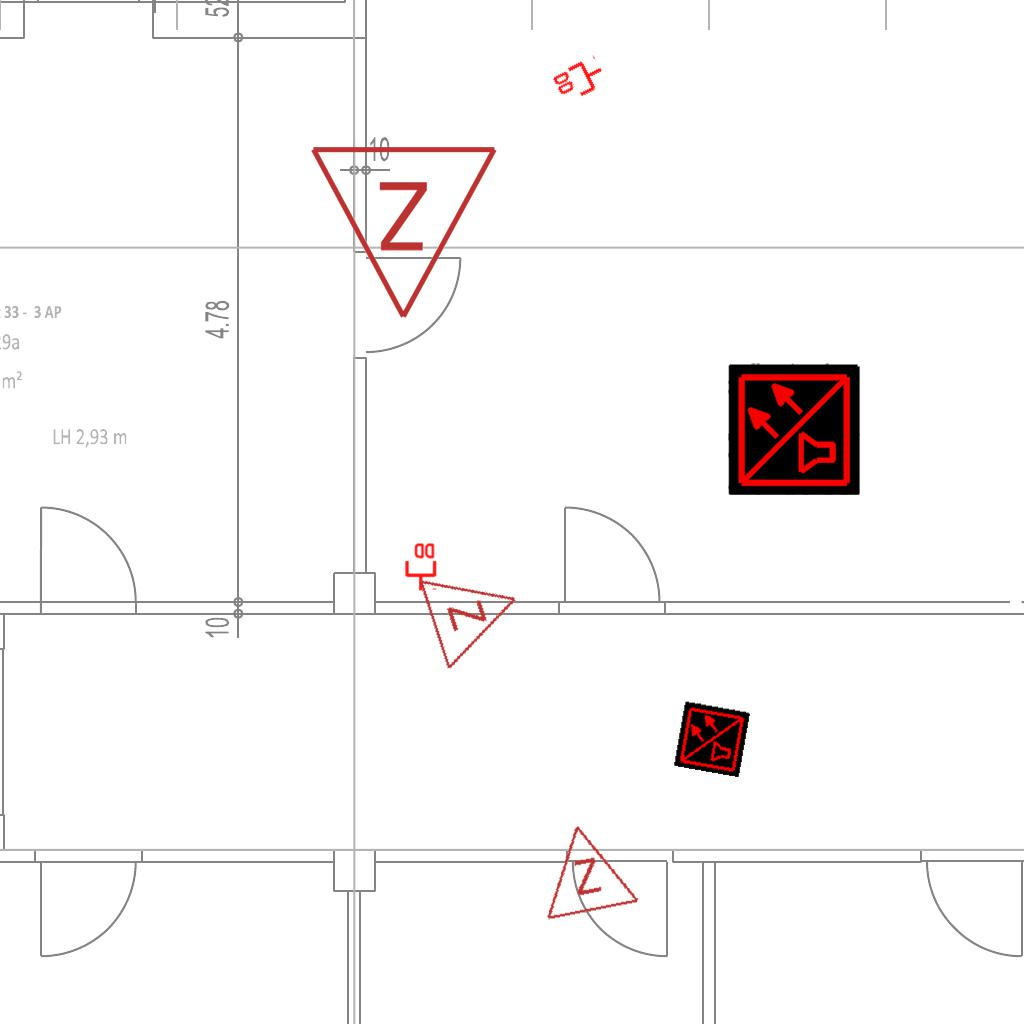Datenanschluss_zweifach: (549, 54, 611, 107), (403, 541, 437, 592)
OKW_Multisensormelder_(Kombination_optischer_Rauch-Kahlenmonoxid_Waerme-Melder): (728, 363, 860, 495), (673, 700, 751, 778)
Zimmersignalleuchte: (308, 132, 504, 332), (411, 548, 537, 674), (526, 810, 642, 928)
